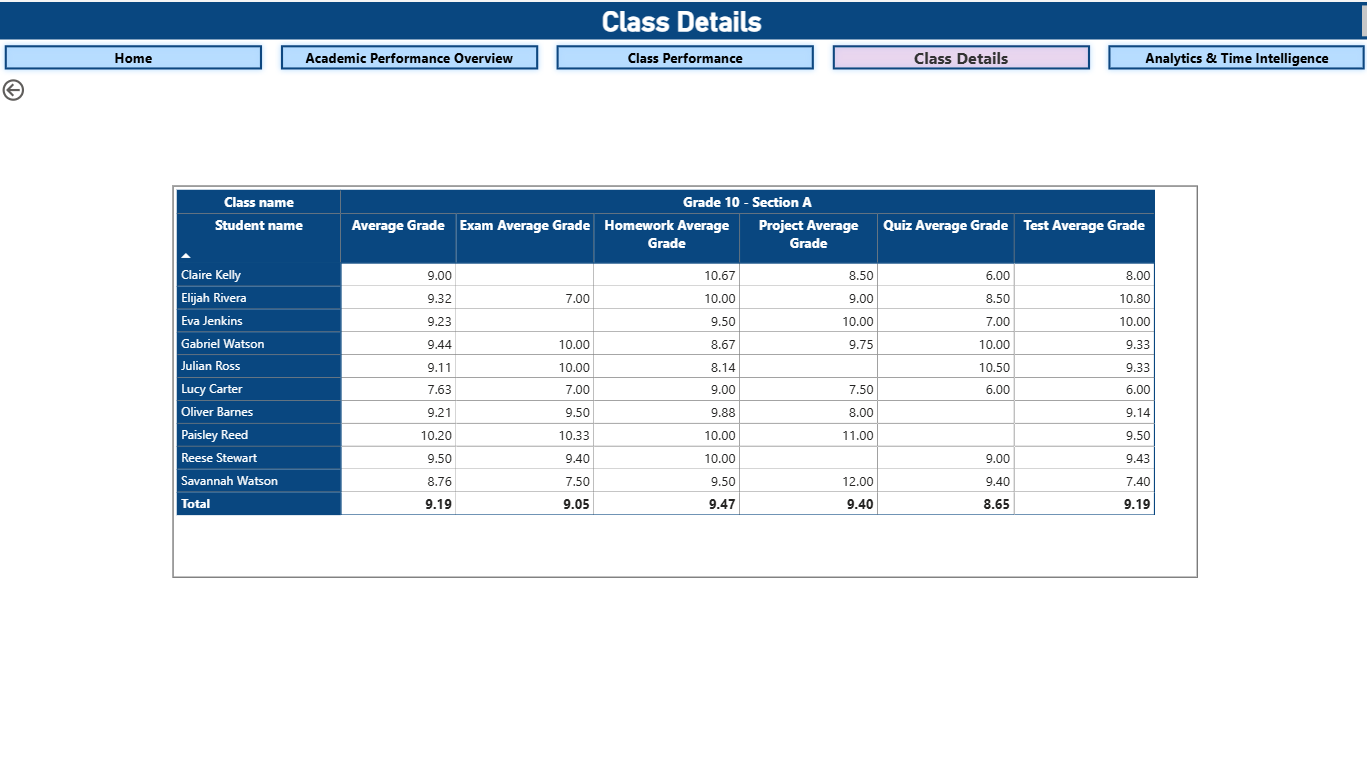

This screenshot's page, from the dashboard's own definition file:
{"tool":"powerbi","page":{"name":"Class Details","canvas":[1920,1080],"ordinal":3},"visuals":[{"type":"textbox","box":[0,0,1920.4,53.5],"z":0},{"type":"pivotTable","fields":{"Columns":["classes.class_name"],"Rows":["students.student_name"],"Values":["_Measures.Average Grade","_Measures.Exam Average Grade","_Measures.Homework Average Grade","_Measures.Project Average Grade","_Measures.Quiz Average Grade","_Measures.Test Average Grade"]},"box":[243.1,256.6,1433.3,548.1],"z":1000},{"type":"actionButton","box":[0,103.3,100,40],"z":2000},{"type":"pageNavigator","box":[0,53.3,1920,50],"z":3000}]}

Visuals, with their boxes in screenshot pixels (x1, y1, x2, y2), scaled from the page's 1920x1080 canvas onto the 1367x767 screenshot:
textbox: {"left": 0, "top": 0, "right": 1366, "bottom": 38}
pivotTable - classes.class_name x students.student_name: {"left": 173, "top": 182, "right": 1194, "bottom": 571}
actionButton: {"left": 0, "top": 73, "right": 71, "bottom": 102}
pageNavigator: {"left": 0, "top": 38, "right": 1366, "bottom": 73}
